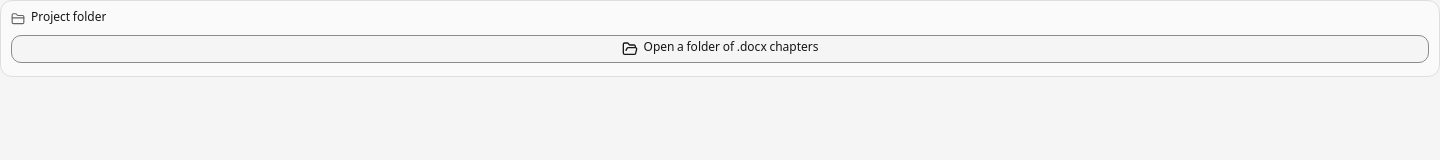
Test case: ProjectFolderSection › opens a folder and lists its chapters
What coordinates should you click on to do the following:
click the button "Open a folder of .docx chapters"
I would click on:
 (720, 49)
Its box is x1=11 y1=35 x2=1429 y2=63.
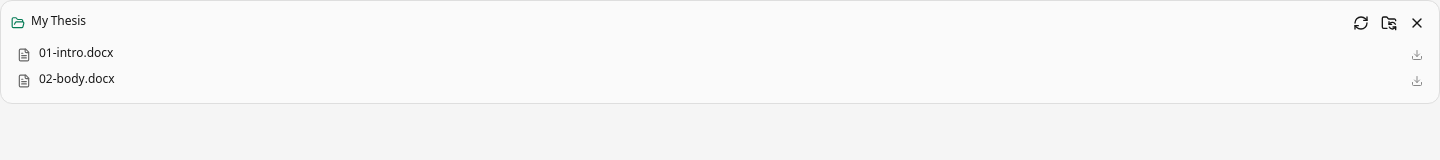
Expected: the text "01-intro.docx" is shown, x1=39 y1=44 x2=113 y2=65
Expected: the text "02-body.docx" is shown, x1=39 y1=70 x2=115 y2=91
Expected: the text "My Thesis" is shown, x1=31 y1=15 x2=86 y2=31
